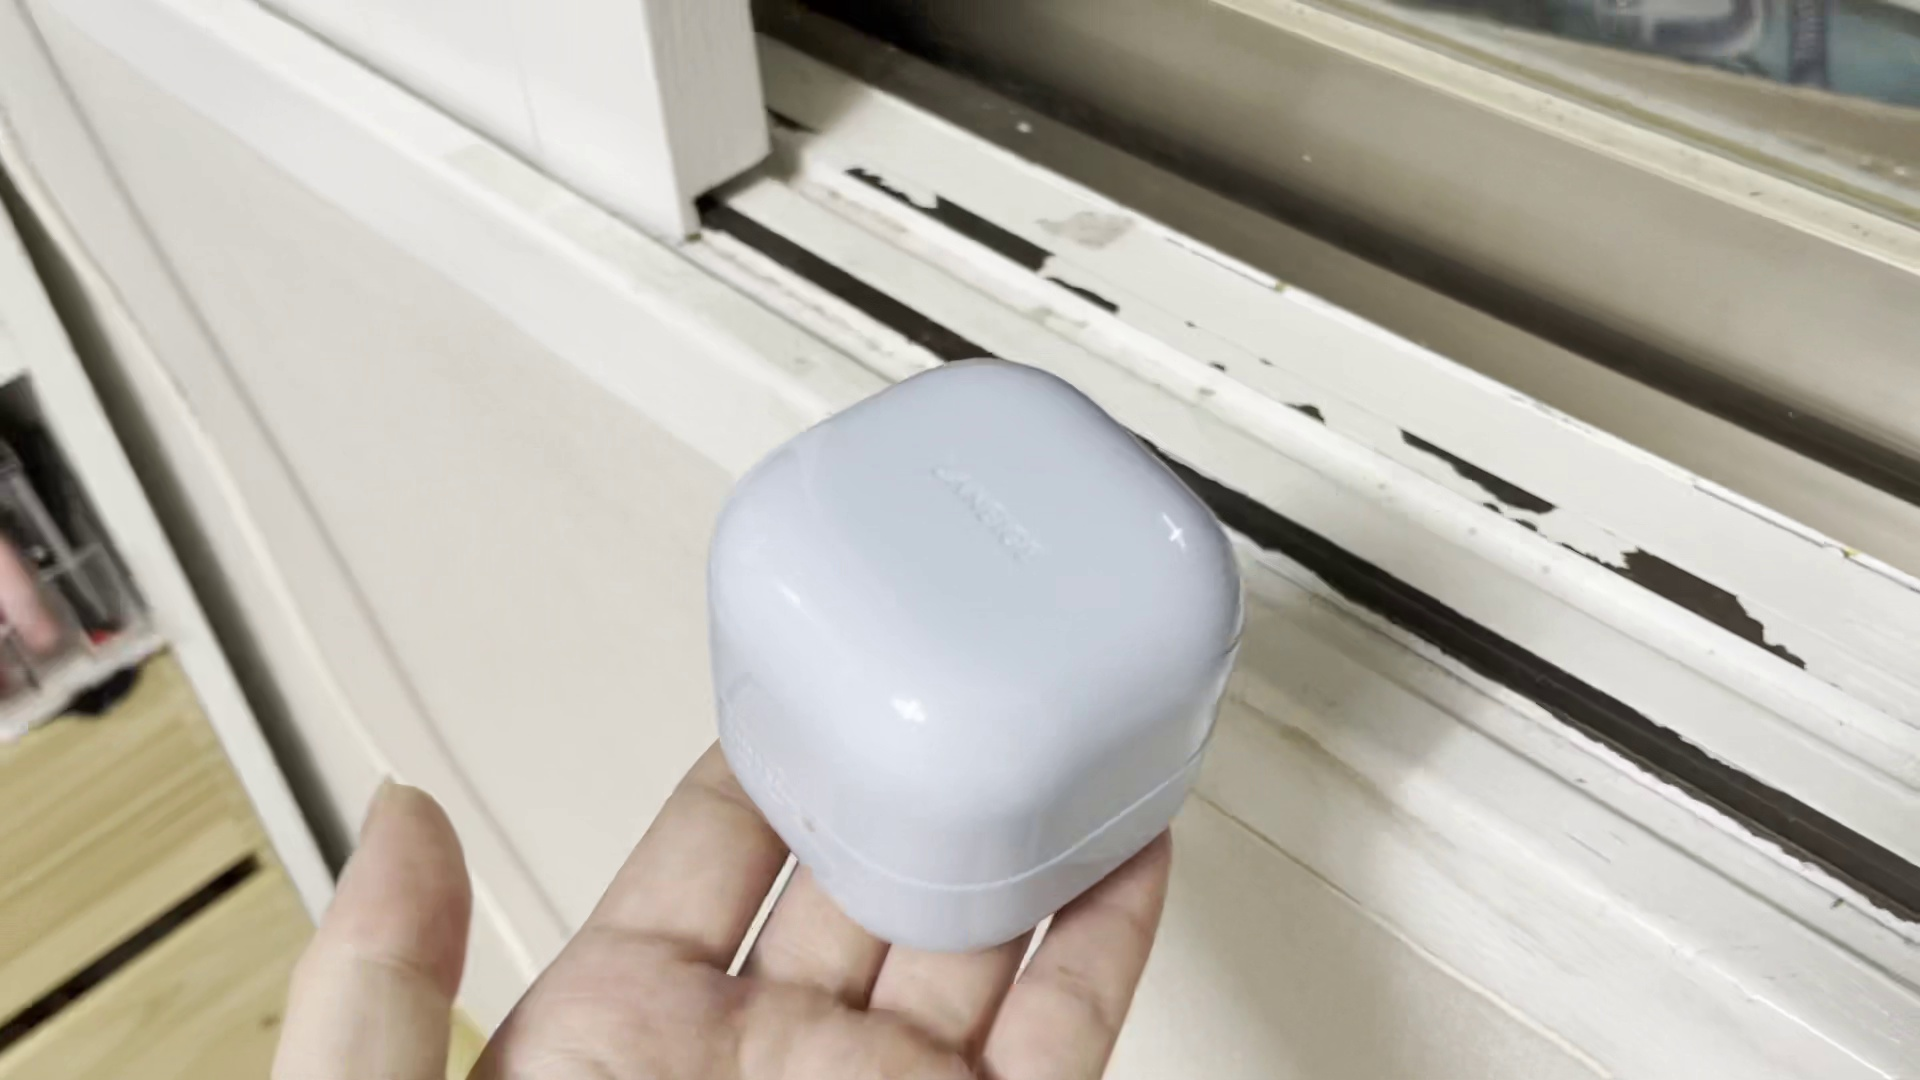cream: (703, 363, 1240, 945)
